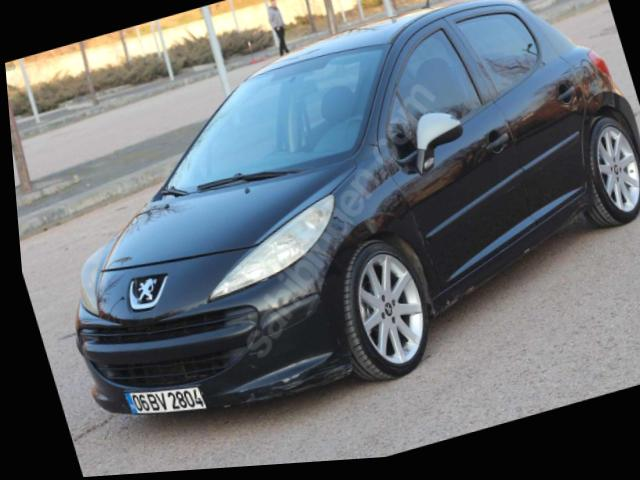plaka: (125, 386, 205, 413)
